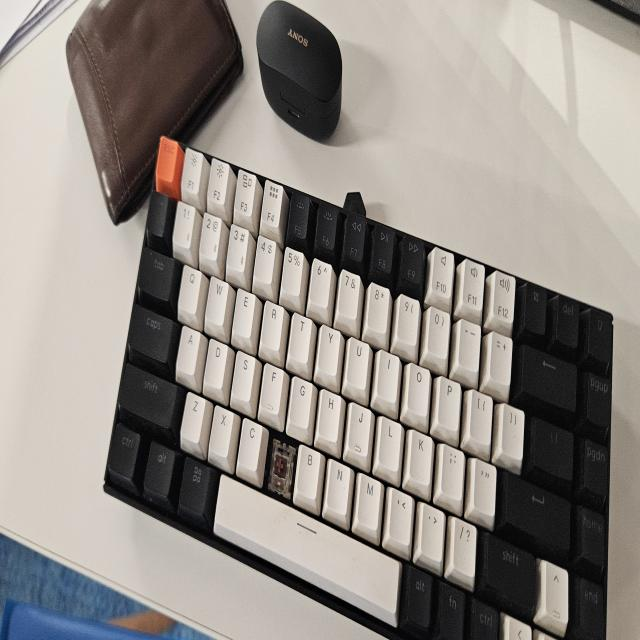C: (270, 445, 290, 485)
